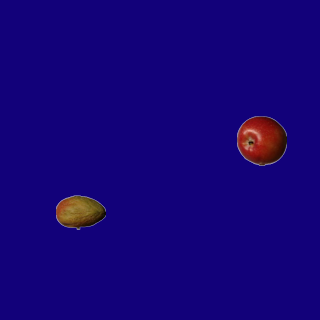Apple Braeburn: (236, 115, 286, 165)
Papaya: (55, 187, 105, 237)
